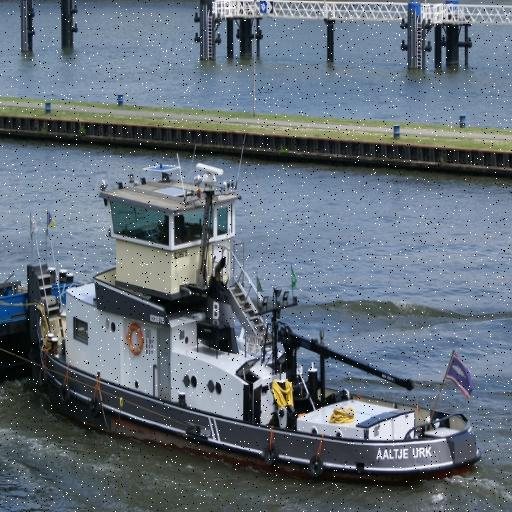tugboat: (26, 161, 485, 491)
